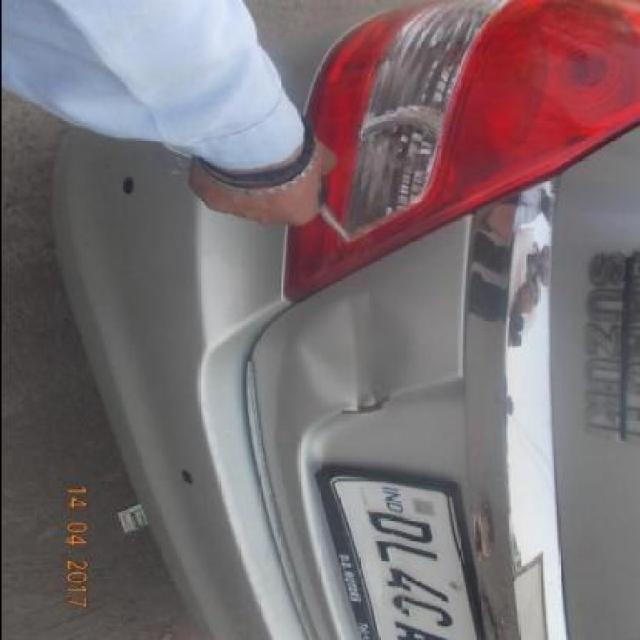damage: (296, 290, 405, 408), (341, 392, 388, 415)
